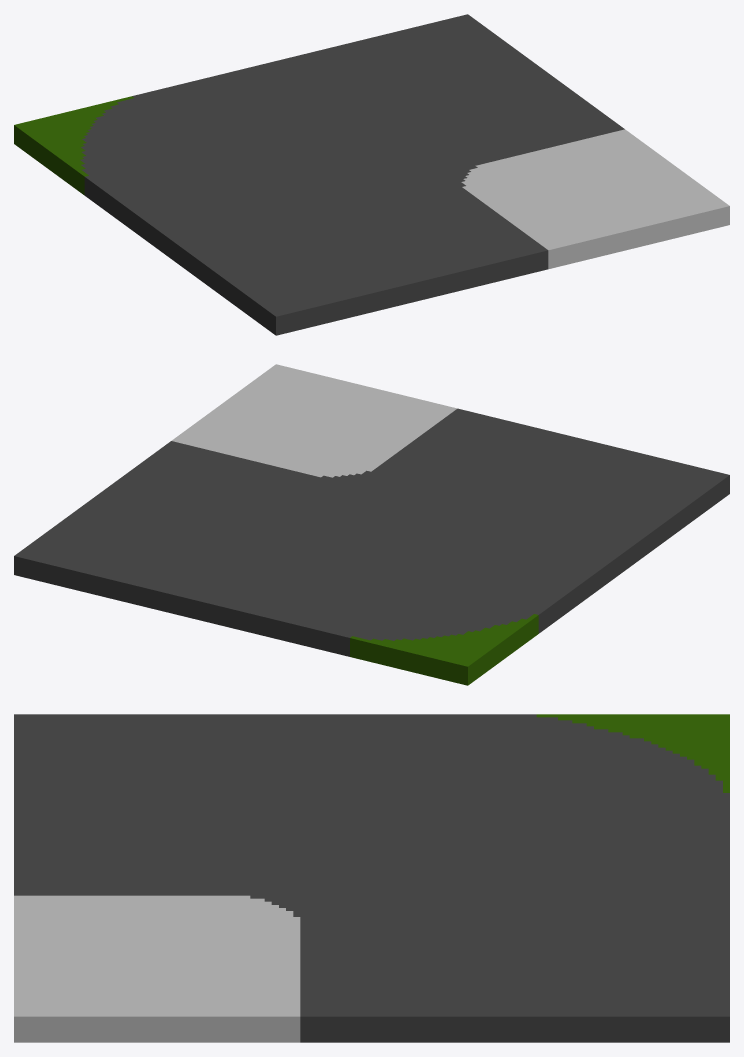
The model's file is Trainvasion Moterman-7-CurveRoad2.obj.
3 views of the same model, one above another, from view 1: azimuth 30°, elevation 25°; view 2: azimuth 150°, elevation 25°; view 3: azimuth 270°, elevation 25° (orthographic). The views are drawn at different scales.
Parts seen in each view (by area): view 1: CurveRoad2; view 2: CurveRoad2; view 3: CurveRoad2.
Boxes of the visible parts, x1,y1,x2,y2 form: CurveRoad2: [14, 14, 729, 335]; CurveRoad2: [14, 364, 729, 685]; CurveRoad2: [14, 714, 729, 1042].
Size of the model in its own units: 10 by 0.4 by 10.
Materials: 1 (1 with a texture image).
